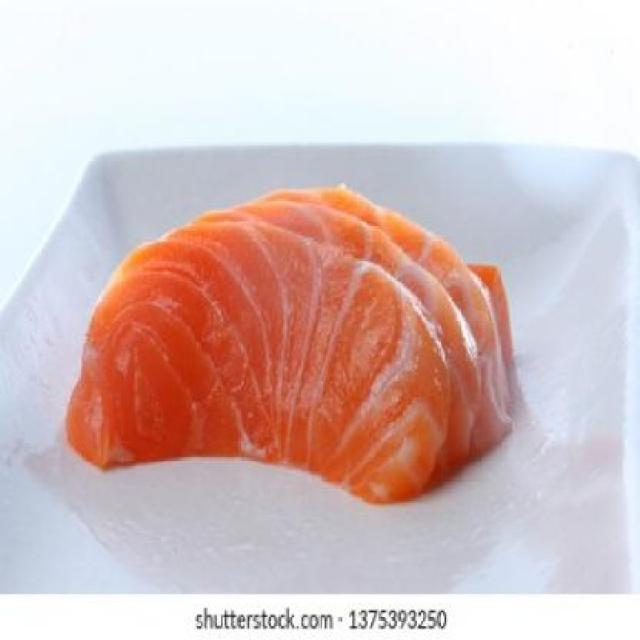salmon: (56, 178, 534, 520)
